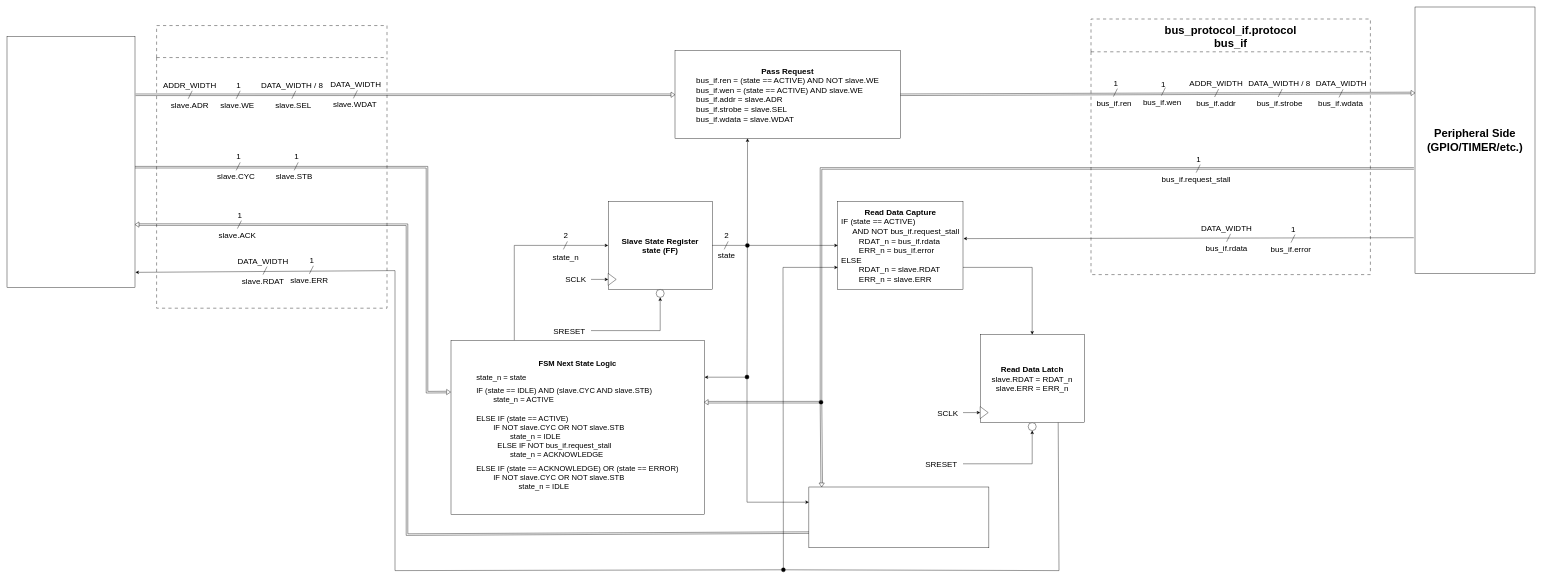
Some shapes in this 1542 by 581 pixel diagram are drawn without their labels. The box of each missing label's shape, as (x1, y1, x2, y2) in pixels:
Pass Response slave.ACK = (state == ACKNOWLEDGE): (808, 487, 989, 548)
Wishbone Address Decoder: (7, 36, 135, 287)
wishbone_if.slave slave: (156, 25, 387, 308)
